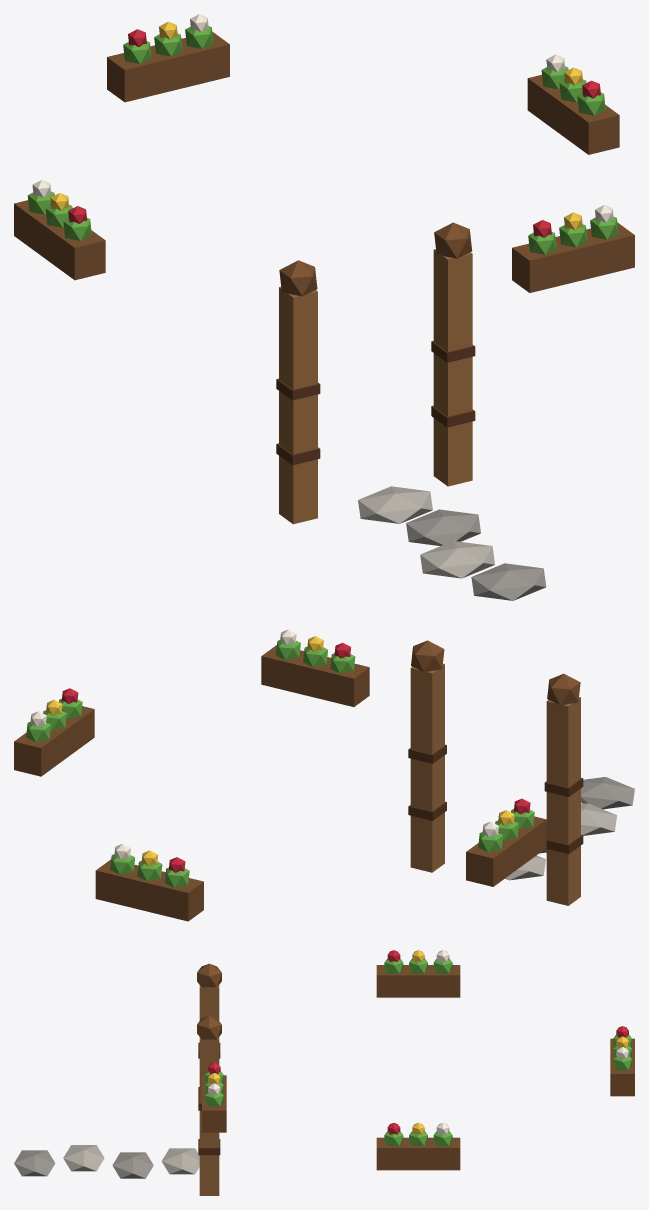
The model's file is house_decor_3.glb.
3 views of the same model, one above another, from view 1: azimuth 30°, elevation 25°; view 2: azimuth 150°, elevation 25°; view 3: azimuth 270°, elevation 25° (orthographic). The views are drawn at different scales.
Parts seen in each view (by area): view 1: plank_dark, plank, leaf_light, stone_light, stone, timber; view 2: plank_dark, plank, leaf_light, timber, stone_light, stone; view 3: plank_dark, plank, leaf_light, stone, stone_light.
Part boxes in pixels (left/top/right/bottom): plank_dark: left=14, top=32, right=634, bottom=296; plank: left=279, top=249, right=472, bottom=524; leaf_light: left=27, top=26, right=618, bottom=254; stone_light: left=358, top=486, right=494, bottom=578; stone: left=406, top=509, right=546, bottom=600; timber: left=276, top=341, right=475, bottom=465; plank_dark: left=14, top=640, right=580, bottom=921; plank: left=410, top=663, right=580, bottom=905; leaf_light: left=26, top=640, right=534, bottom=887; timber: left=408, top=744, right=583, bottom=853; stone_light: left=505, top=803, right=616, bottom=880; stone: left=540, top=777, right=634, bottom=853; plank_dark: left=197, top=963, right=634, bottom=1170; plank: left=199, top=985, right=219, bottom=1195; leaf_light: left=205, top=958, right=631, bottom=1145; stone: left=14, top=1150, right=153, bottom=1178; stone_light: left=63, top=1145, right=199, bottom=1174.
Bounding box in the file's own units: 1.76 × 0.806 × 2.52.
